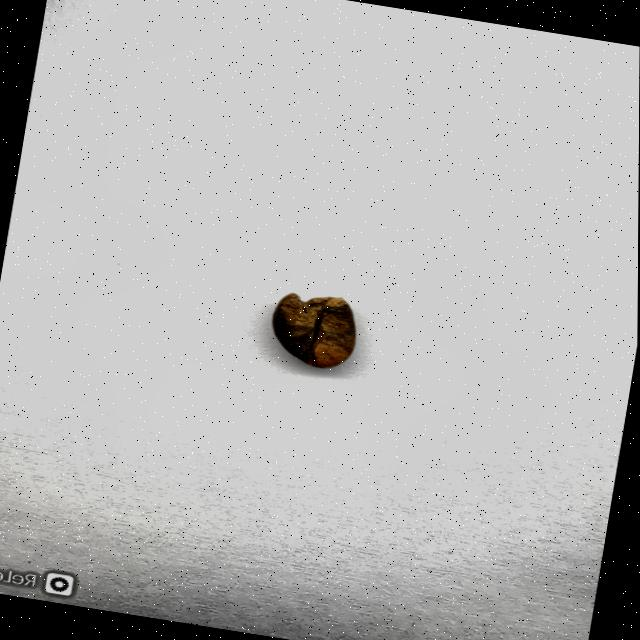Black: (265, 286, 365, 374)
